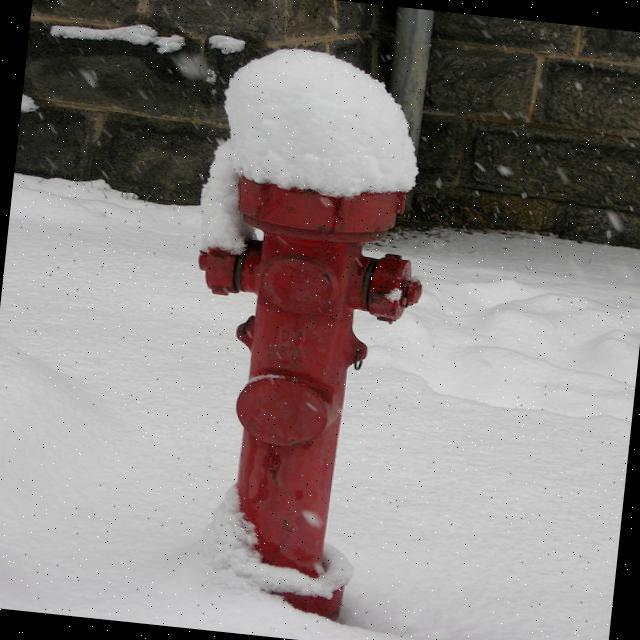fire_hydrant: (160, 170, 433, 622)
